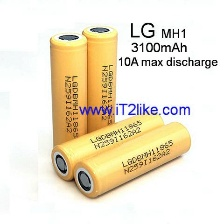battery: (70, 118, 192, 200), (49, 107, 168, 185), (48, 30, 89, 158), (80, 22, 118, 143)
